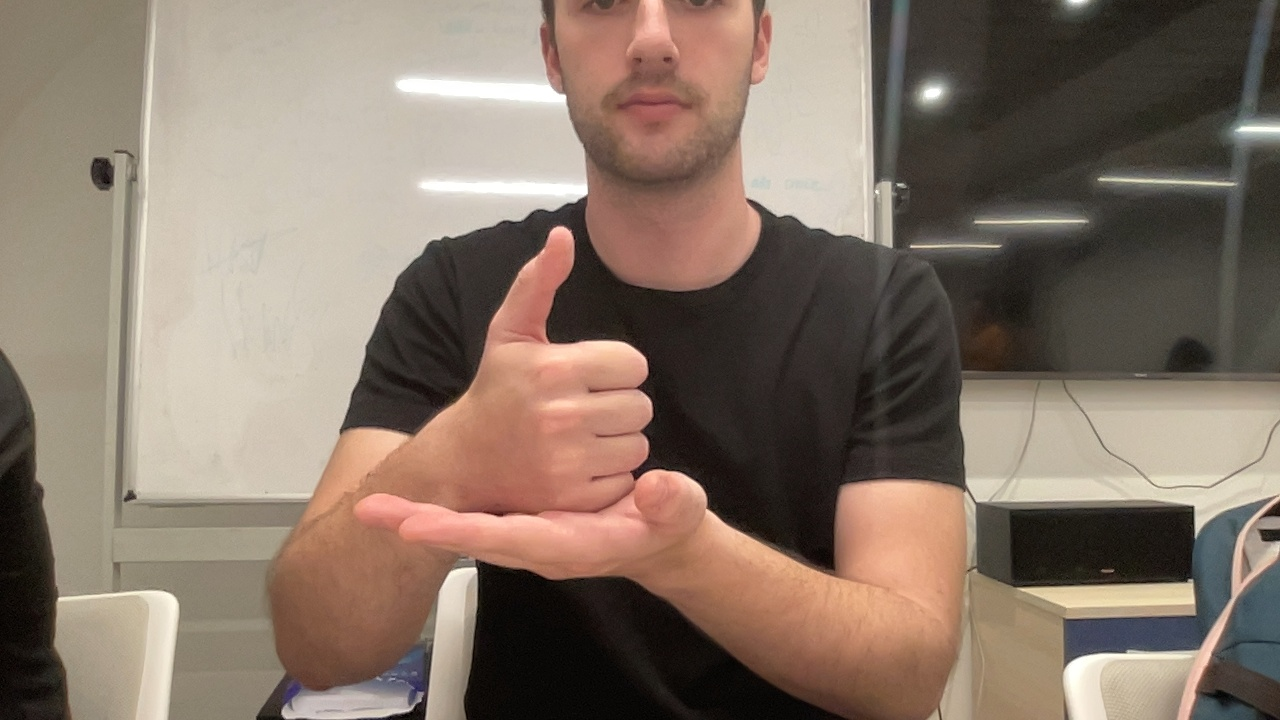Help: (348, 221, 716, 594)
